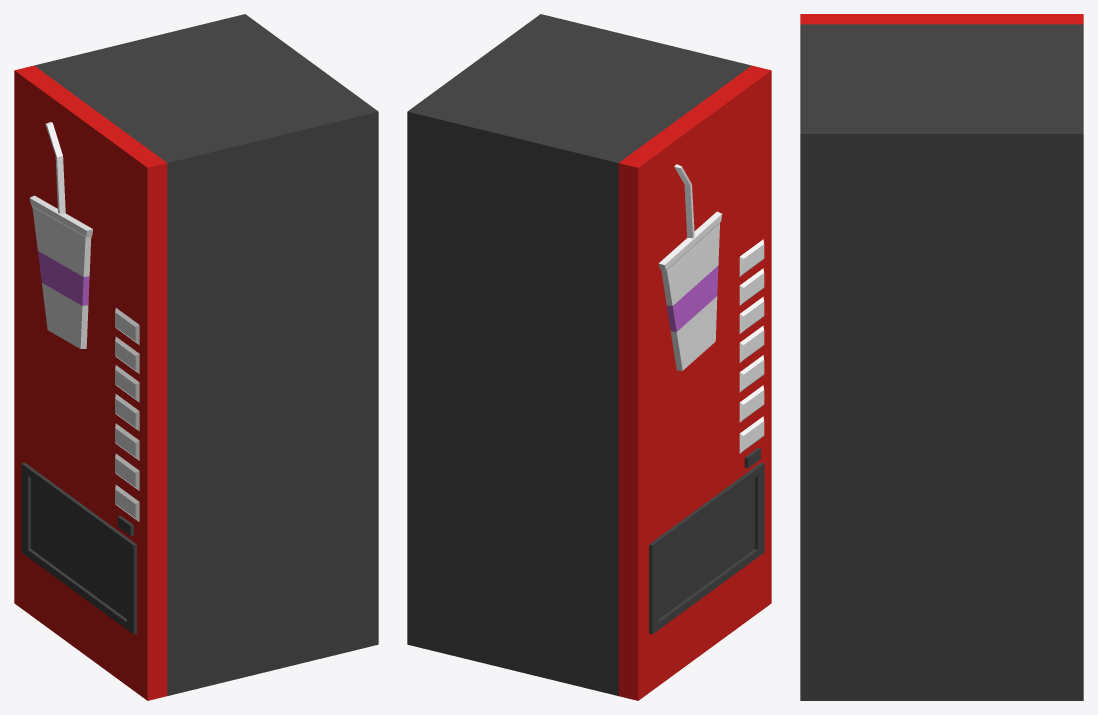
3 views of the same model, side by side, from view 1: azimuth 30°, elevation 25°; view 2: azimuth 150°, elevation 25°; view 3: azimuth 270°, elevation 25° (orthographic). The views are drawn at different scales.
Visible parts, largest first — view 1: Drink Vending Machine; view 2: Drink Vending Machine; view 3: Drink Vending Machine.
Part boxes in pixels (x1,y1,x2,y2): Drink Vending Machine: (14, 14, 378, 700); Drink Vending Machine: (407, 14, 771, 700); Drink Vending Machine: (800, 14, 1083, 700).
Size of the model in its own units: 2.47 by 2.53 by 5.45.
